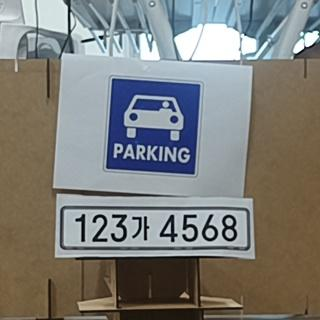normal: (60, 205, 250, 250)
